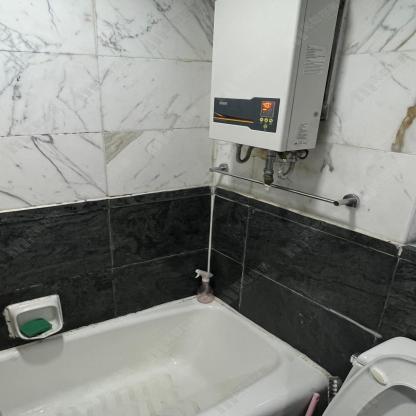Bathtub: (0, 291, 333, 416)
Water Heater: (206, 0, 341, 152)
